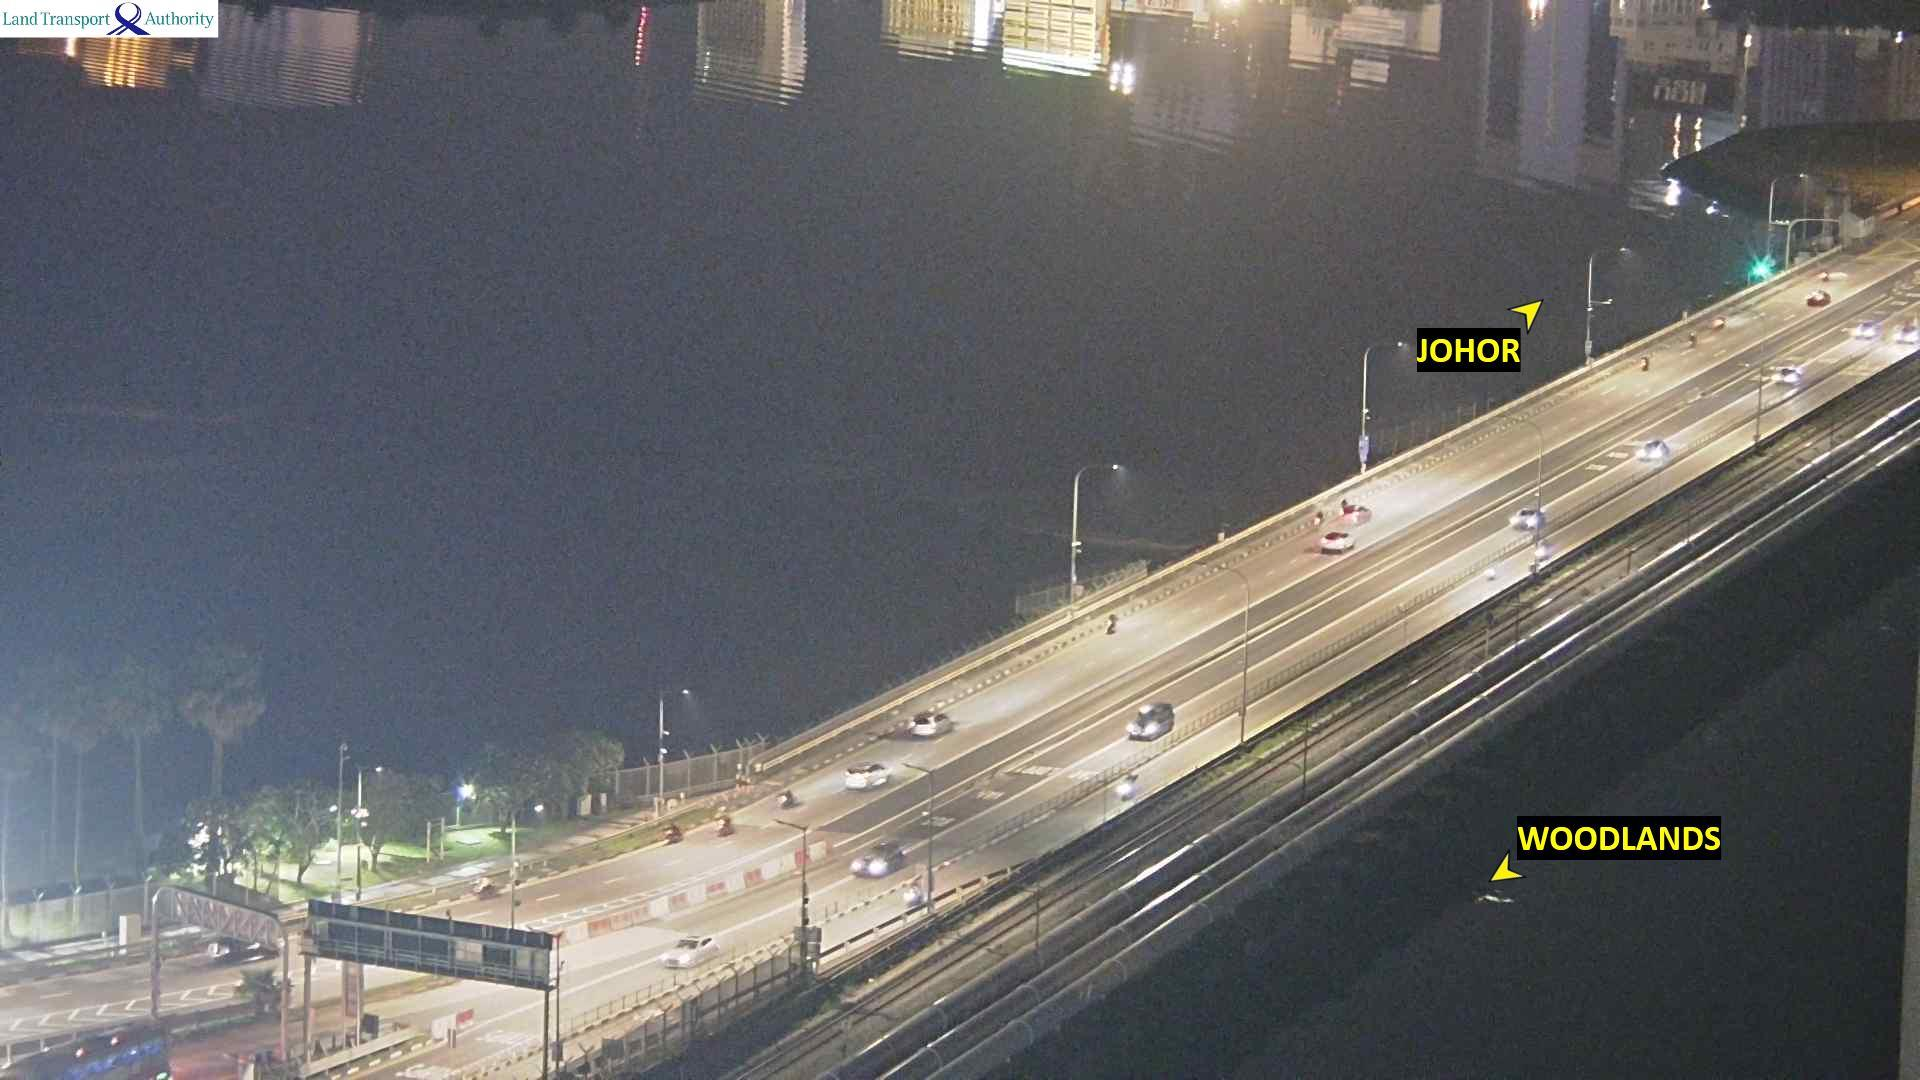vehicle-causeway-johor: (843, 765, 897, 790), (910, 715, 961, 737), (713, 806, 738, 837), (1323, 531, 1352, 553), (775, 787, 800, 811), (469, 878, 495, 901), (1341, 505, 1371, 524), (1805, 294, 1830, 307), (665, 823, 683, 840), (1105, 613, 1118, 636), (1716, 314, 1726, 328), (1689, 330, 1697, 347), (1639, 357, 1648, 368)
vehicle-causeway-singapore: (665, 936, 725, 967), (1125, 704, 1176, 740), (848, 841, 898, 872), (1511, 506, 1543, 531), (1639, 438, 1668, 464), (1896, 318, 1916, 347), (1774, 364, 1799, 384), (1857, 319, 1876, 340), (906, 882, 923, 905), (1118, 779, 1133, 803), (1539, 541, 1549, 556)
